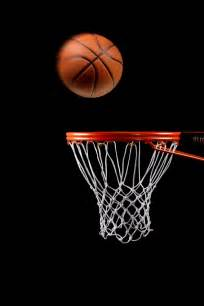basketball: (54, 32, 127, 99)
